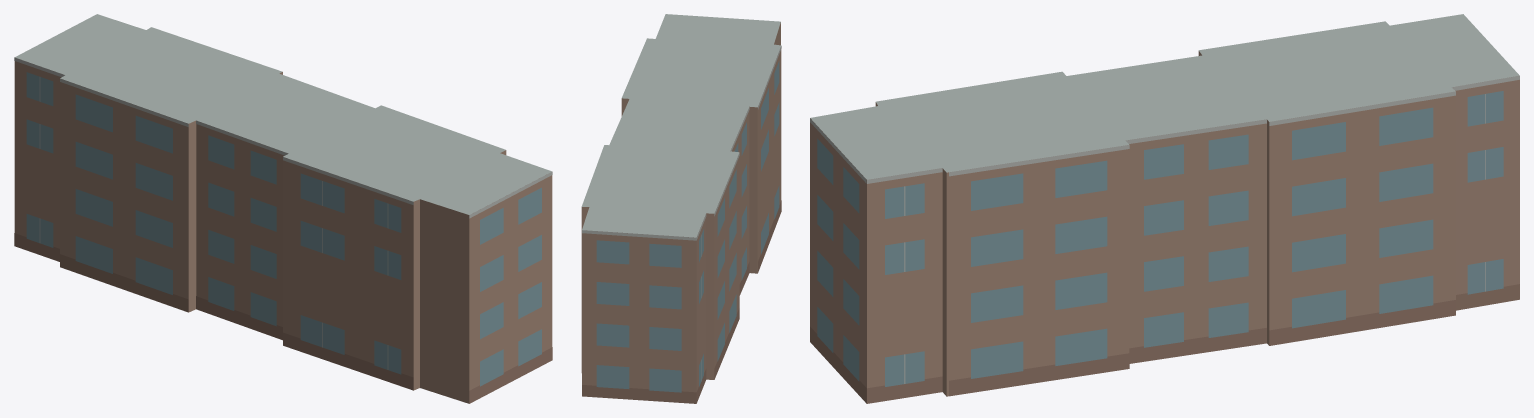
File: survey-upis-32867732.glb
3 renders of one model, left to right at view 1: azimuth 30°, elevation 25°; view 2: azimuth 150°, elevation 25°; view 3: azimuth 270°, elevation 25°, orthographic. The views are drawn at different scales.
Visible parts, largest first — view 1: survey-upis-32867732.tmp; view 2: survey-upis-32867732.tmp; view 3: survey-upis-32867732.tmp.
Part boxes in pixels (x1,y1,x2,y2): survey-upis-32867732.tmp: (14,14,552,403); survey-upis-32867732.tmp: (581,14,781,403); survey-upis-32867732.tmp: (810,14,1519,403).
Size of the model in its own units: 21.05 by 13.25 by 38.06.
